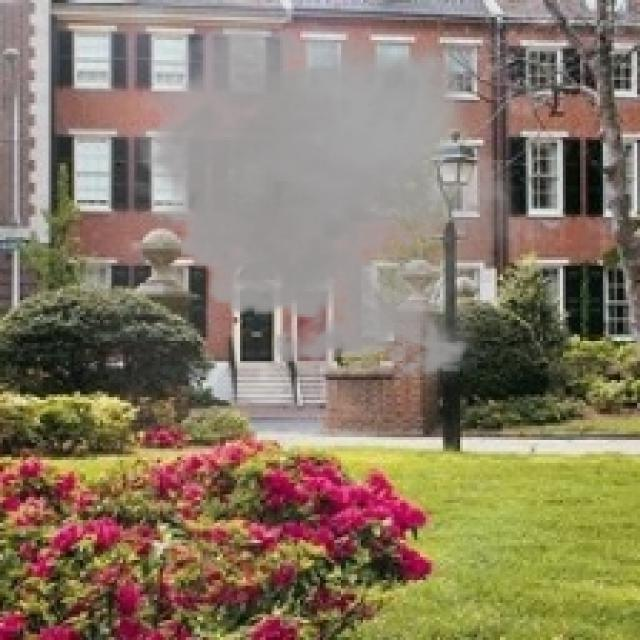Smoke: (122, 11, 534, 388)
